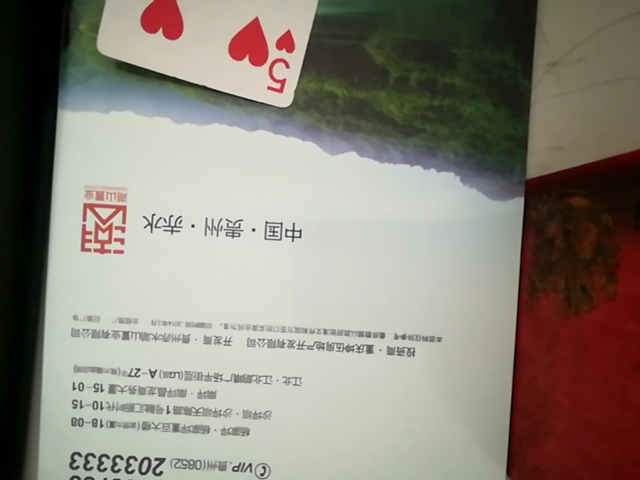hx 5: (92, 3, 370, 120)
